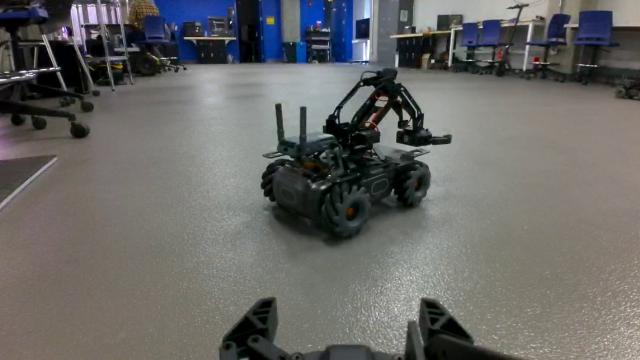robot: (260, 63, 457, 240)
